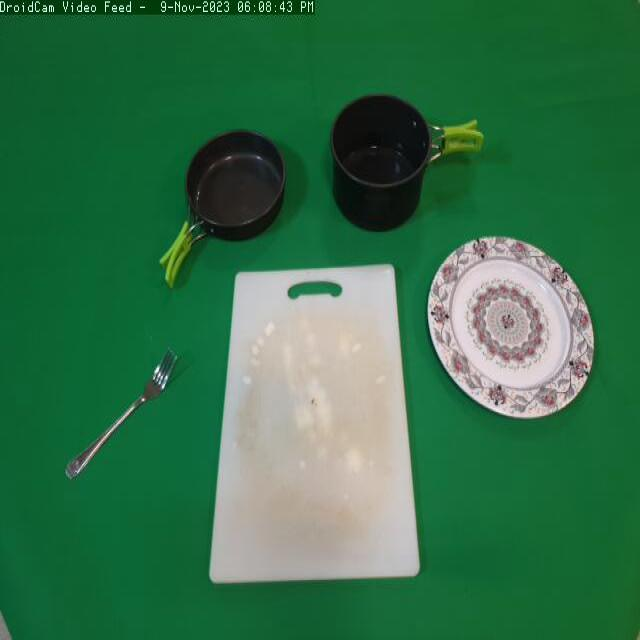cutting board: (212, 254, 422, 602)
fork: (61, 337, 183, 487)
pan: (158, 124, 294, 292)
plate: (419, 234, 597, 438)
pot: (329, 91, 491, 246)
